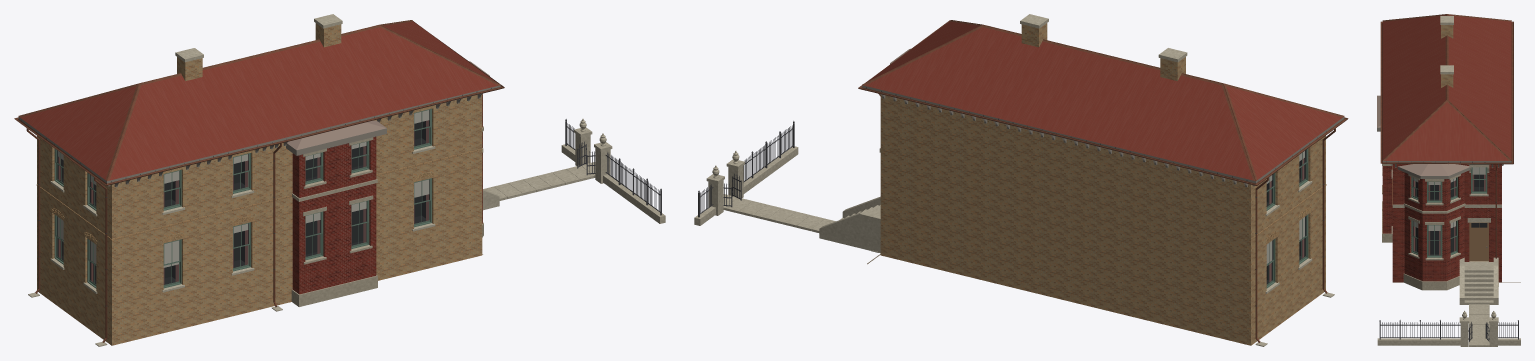
File: house_1608_prairie__as_mapped_1904.glb
3 views of the same model, side by side, from view 1: azimuth 30°, elevation 25°; view 2: azimuth 150°, elevation 25°; view 3: azimuth 270°, elevation 25° (orthographic). The views are drawn at different scales.
Visible parts, largest first — view 1: house_1608_prairie__as_mapped_1904; view 2: house_1608_prairie__as_mapped_1904; view 3: house_1608_prairie__as_mapped_1904.
Boxes of the visible parts, x1=… form: house_1608_prairie__as_mapped_1904: x1=14, y1=14, x2=665, y2=346; house_1608_prairie__as_mapped_1904: x1=694, y1=14, x2=1348, y2=346; house_1608_prairie__as_mapped_1904: x1=1377, y1=14, x2=1520, y2=346.
Size of the model in its own units: 29.3 by 11.9 by 8.87.
23 materials, 12 textured.
